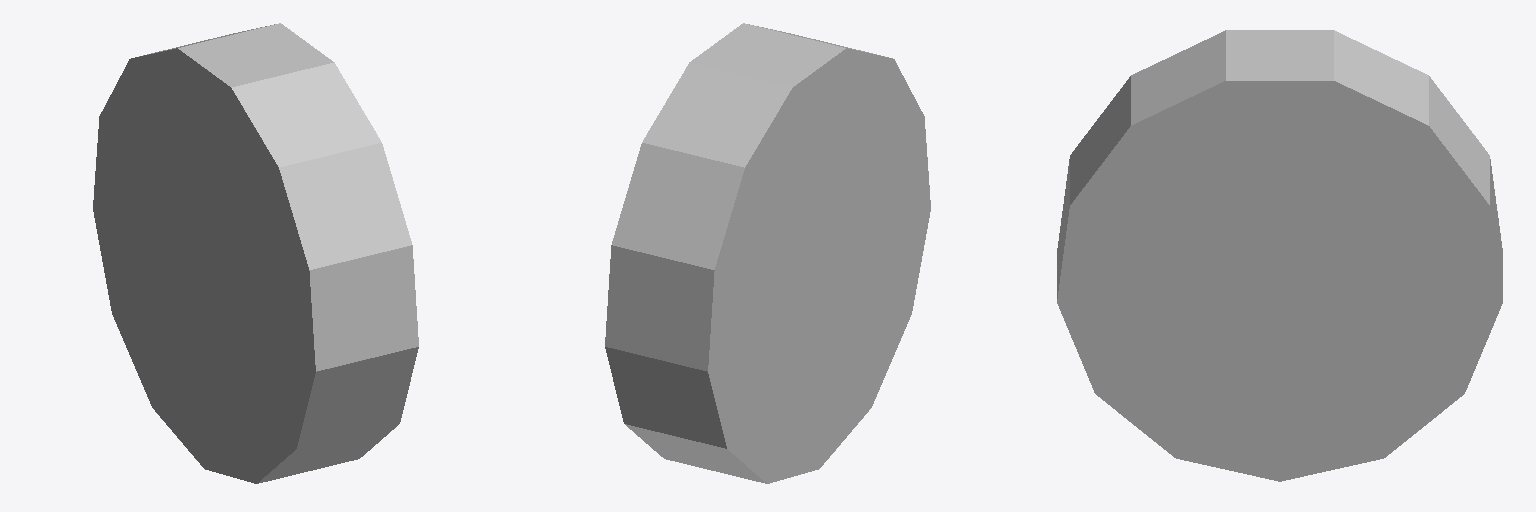
The model's file is city_liquor7.obj.
3 views of the same model, side by side, from view 1: azimuth 30°, elevation 25°; view 2: azimuth 150°, elevation 25°; view 3: azimuth 270°, elevation 25° (orthographic).
Visible parts, largest first — view 1: pCylinder8; view 2: pCylinder8; view 3: pCylinder8.
Boxes of the visible parts, x1,y1,x2,y2 form: pCylinder8: [93, 23, 418, 483]; pCylinder8: [605, 23, 930, 483]; pCylinder8: [1057, 30, 1502, 481].
Bounding box in the file's own units: 0.6731 × 2.5 × 2.52.